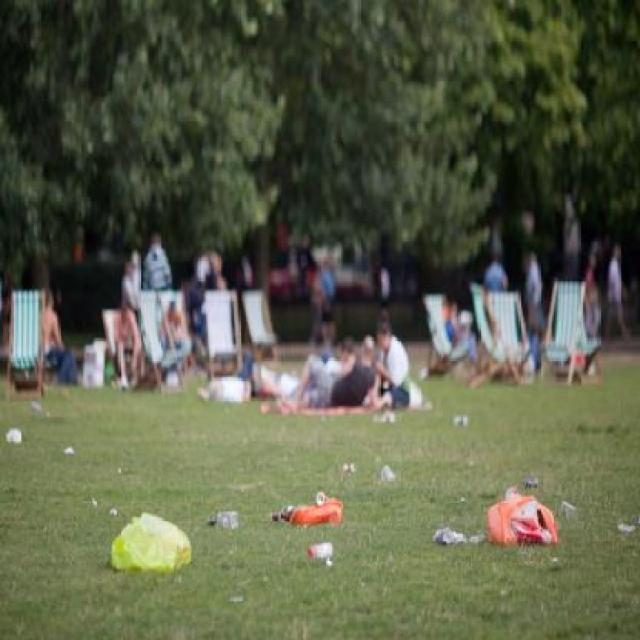garbage: (443, 472, 554, 546), (97, 505, 196, 586), (277, 480, 338, 519)
